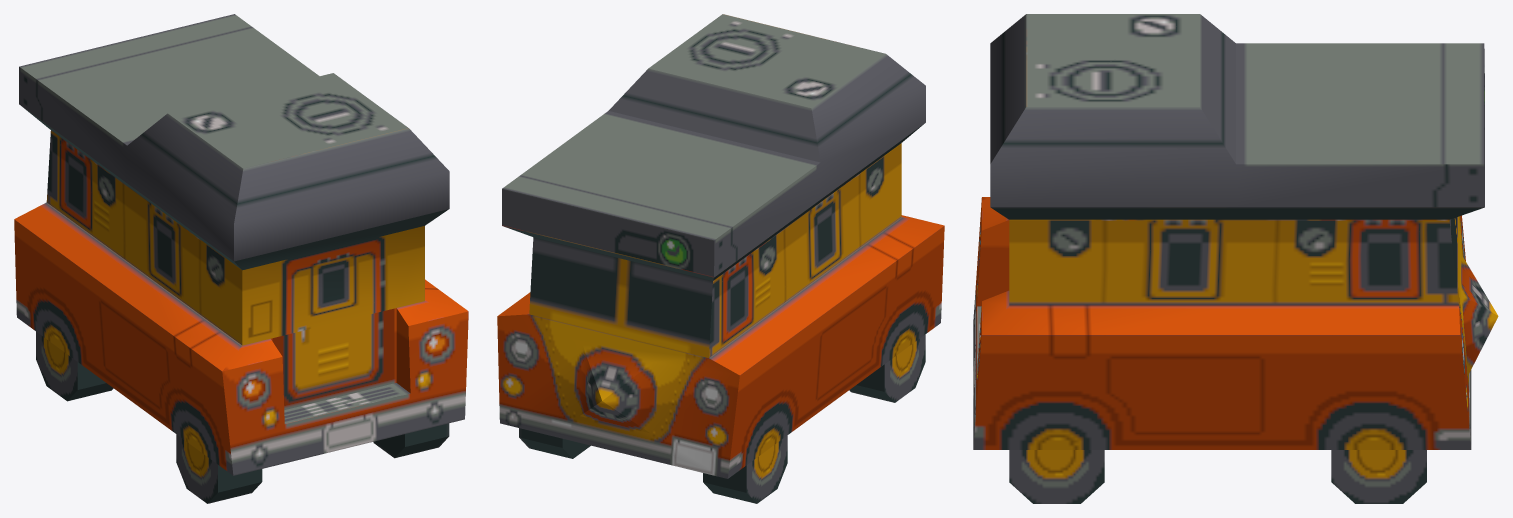
The model's file is support-car.obj.
The picture shows the model from 3 angles, left to right: view 1: azimuth 30°, elevation 25°; view 2: azimuth 150°, elevation 25°; view 3: azimuth 270°, elevation 25°; orthographic projection. The views are drawn at different scales.
Visible parts, largest first — view 1: Mesh; view 2: Mesh; view 3: Mesh.
Boxes of the visible parts, left/top/right/bottom form: Mesh: left=14, top=14, right=468, bottom=503; Mesh: left=497, top=14, right=944, bottom=503; Mesh: left=973, top=14, right=1498, bottom=503.
Bounding box in the file's own units: 112 × 144 × 180.
1 material, 1 textured.
